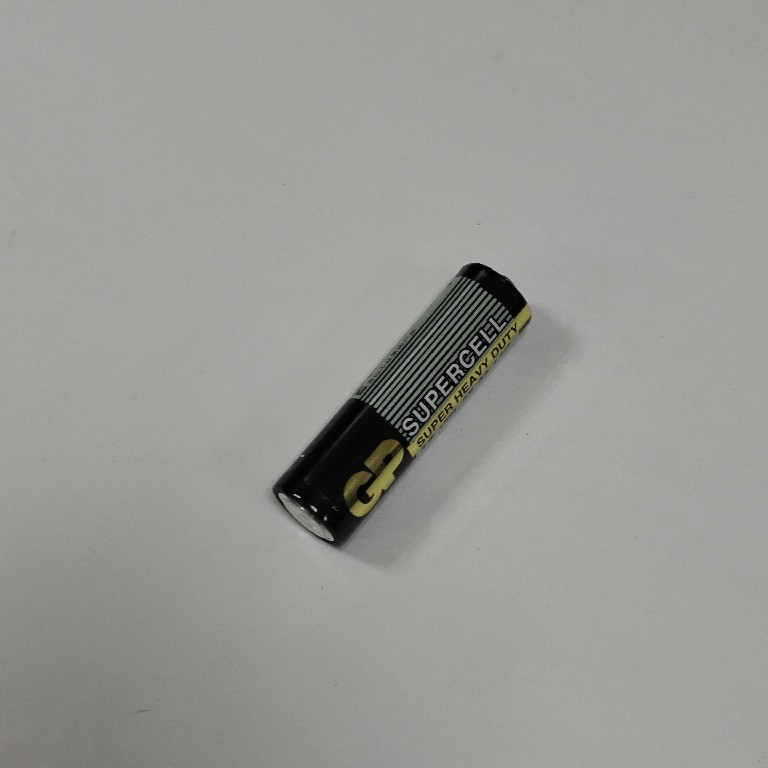charge: (267, 256, 537, 551)
